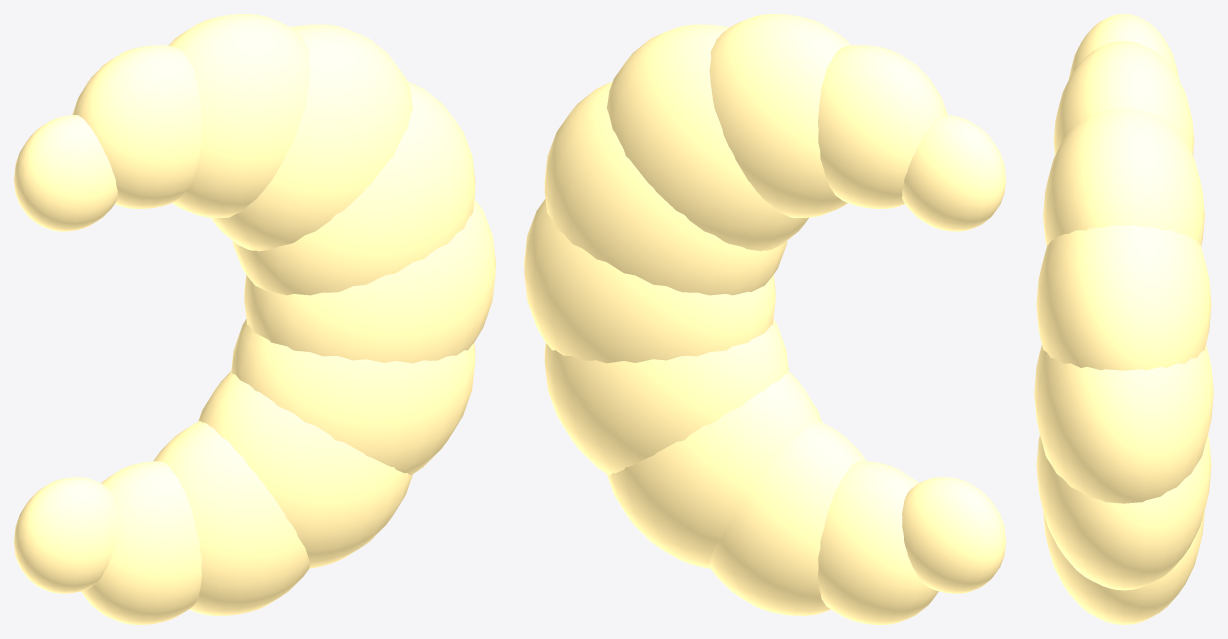
Rendered from icon_moon.glb.
The picture shows the model from 3 angles, left to right: view 1: azimuth 30°, elevation 25°; view 2: azimuth 150°, elevation 25°; view 3: azimuth 270°, elevation 25°; orthographic projection. The views are drawn at different scales.
Visible parts, largest first — view 1: icon_moon; view 2: icon_moon; view 3: icon_moon.
Boxes of the visible parts, bbox=[...] form: icon_moon: bbox=[14, 14, 495, 624]; icon_moon: bbox=[524, 14, 1005, 624]; icon_moon: bbox=[1034, 14, 1213, 624].
Size of the model in its own units: 0.3997 by 0.48 by 0.14.
